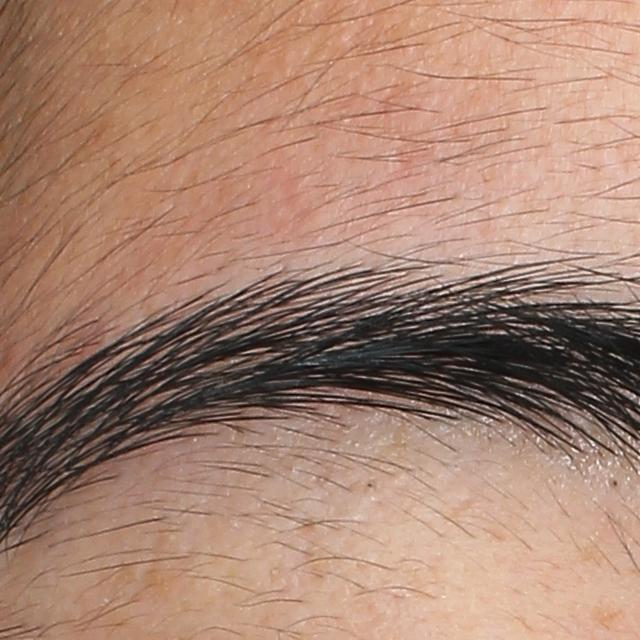melasma: (586, 602, 630, 630)
